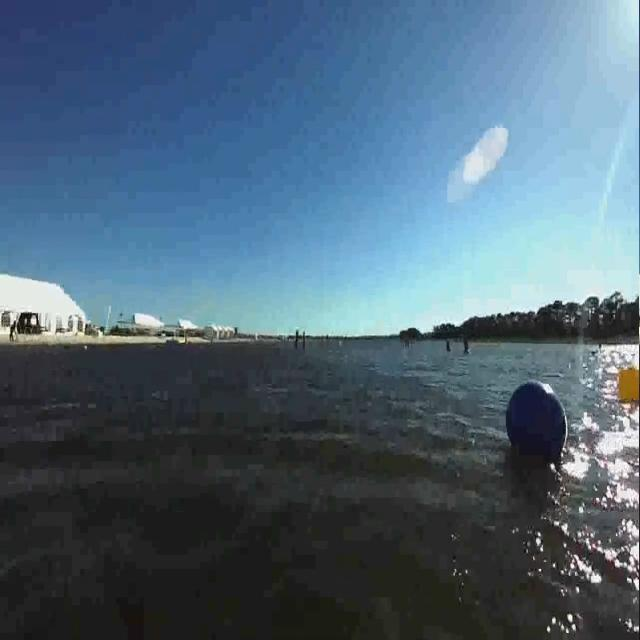black-buoy: (503, 375, 568, 462)
yellow-buoy: (615, 365, 640, 400)
